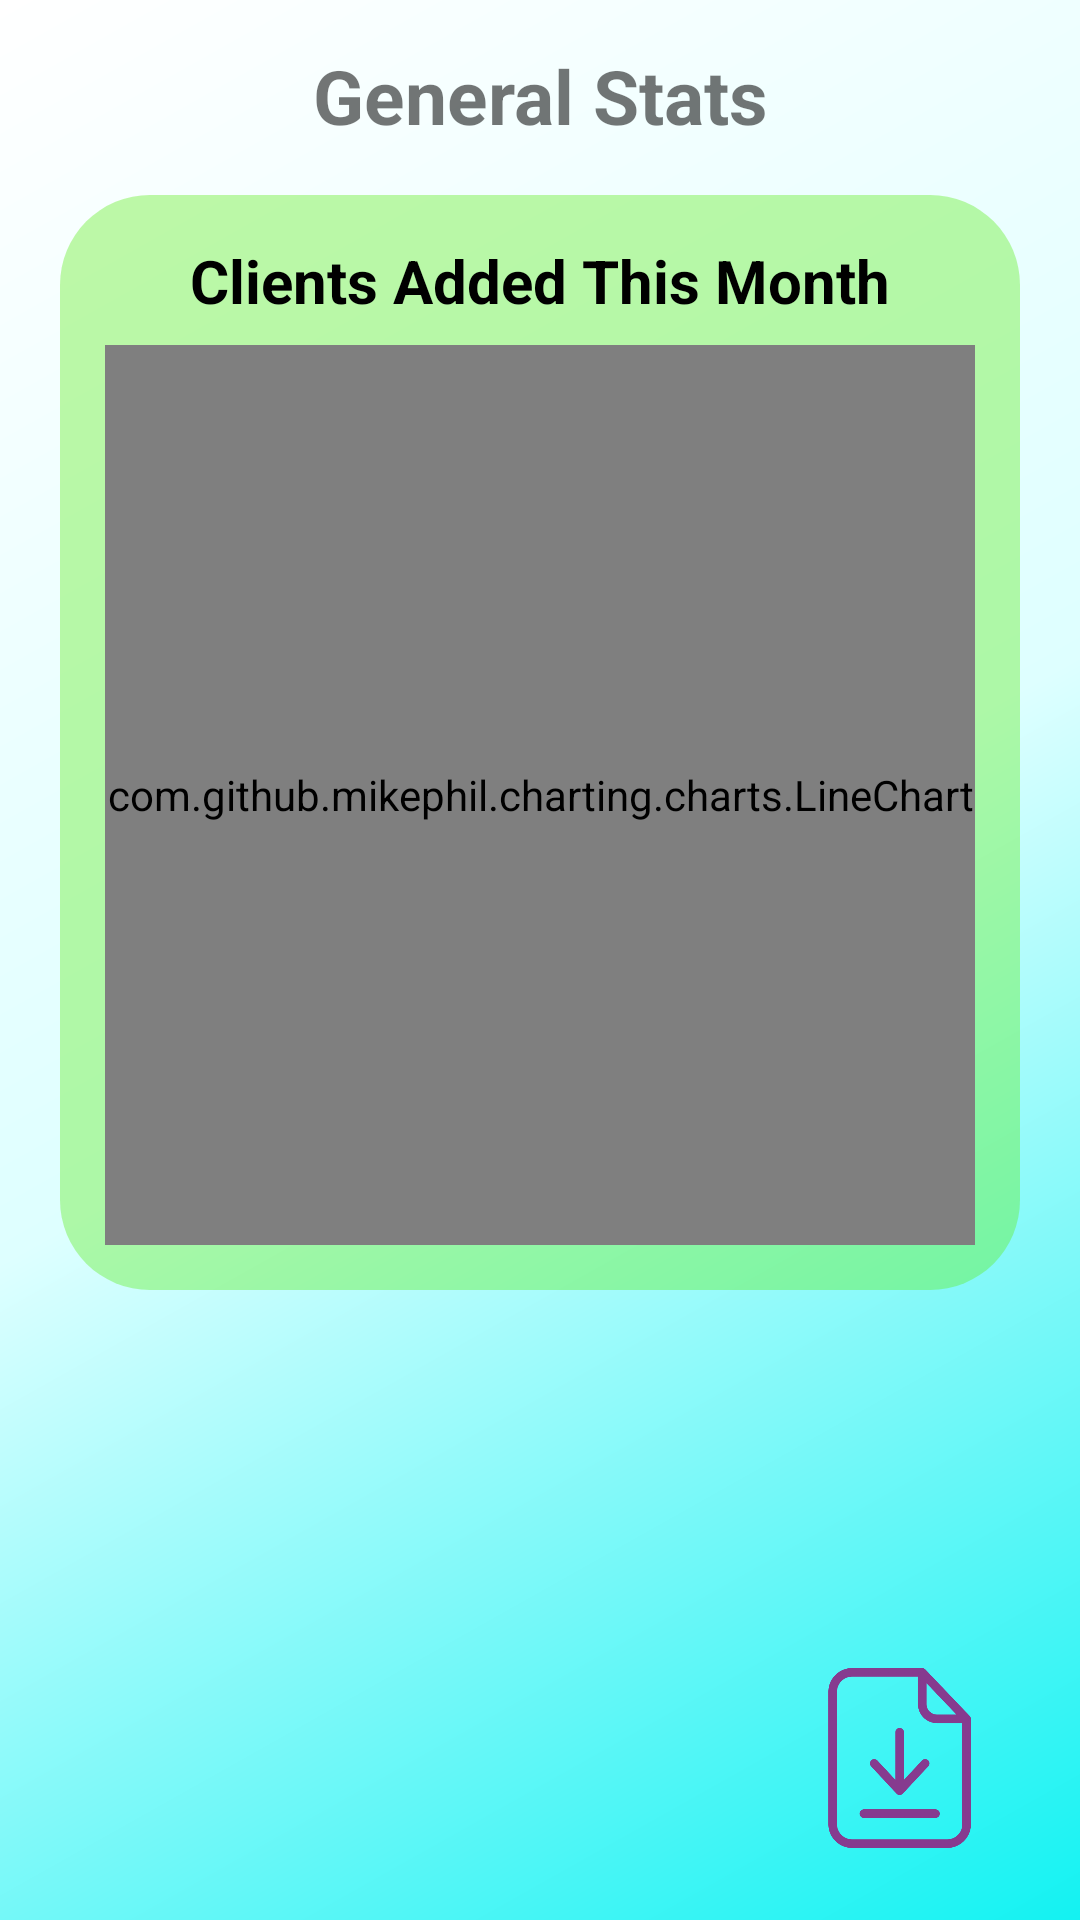

Named icons in this screenshot (1080 × 1920) and their centers, point (x, y):
download: point (918, 1758)
